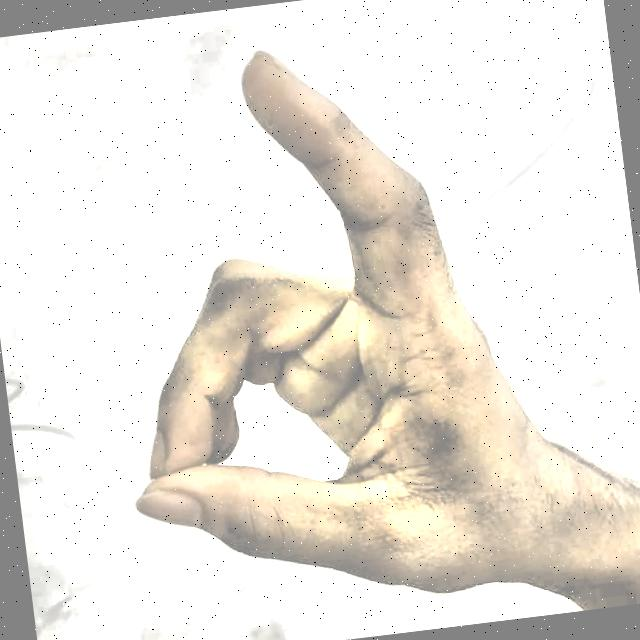Dha: (65, 10, 577, 640)
